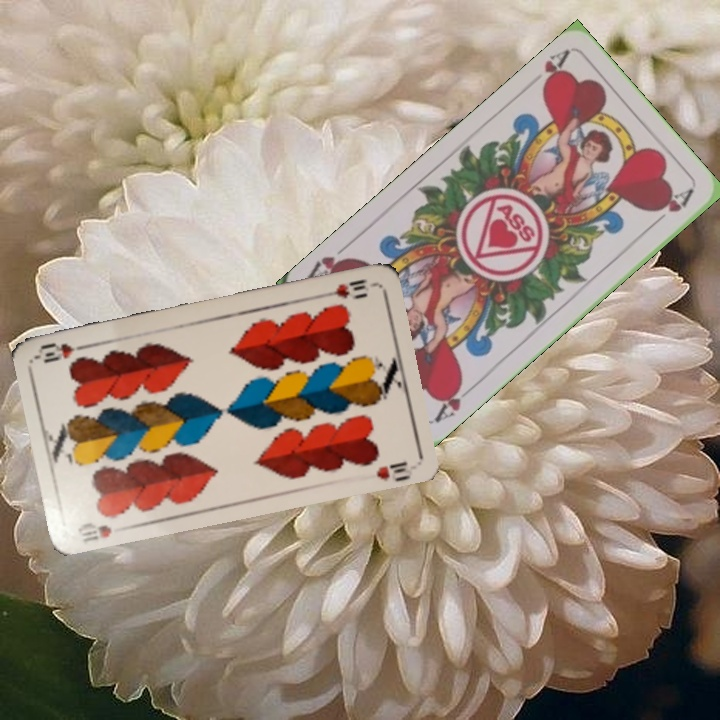H10: (318, 275, 377, 301), (77, 521, 114, 545)
HA: (430, 377, 478, 426), (538, 46, 572, 94)
